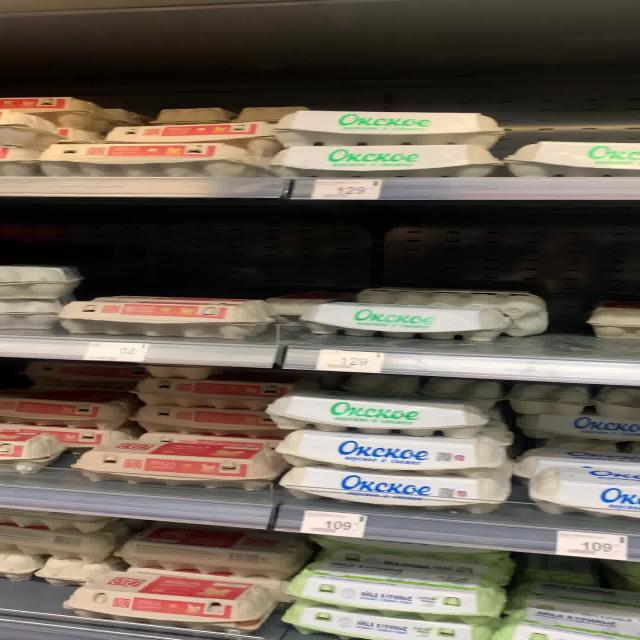egg box: (287, 550, 504, 622), (64, 571, 280, 638), (268, 462, 517, 514), (66, 440, 281, 496), (275, 429, 507, 477), (262, 392, 492, 434), (32, 140, 262, 177), (272, 113, 502, 148), (64, 302, 275, 338), (265, 145, 499, 177), (306, 305, 507, 342), (132, 378, 326, 408), (128, 402, 273, 440), (0, 388, 128, 430)
